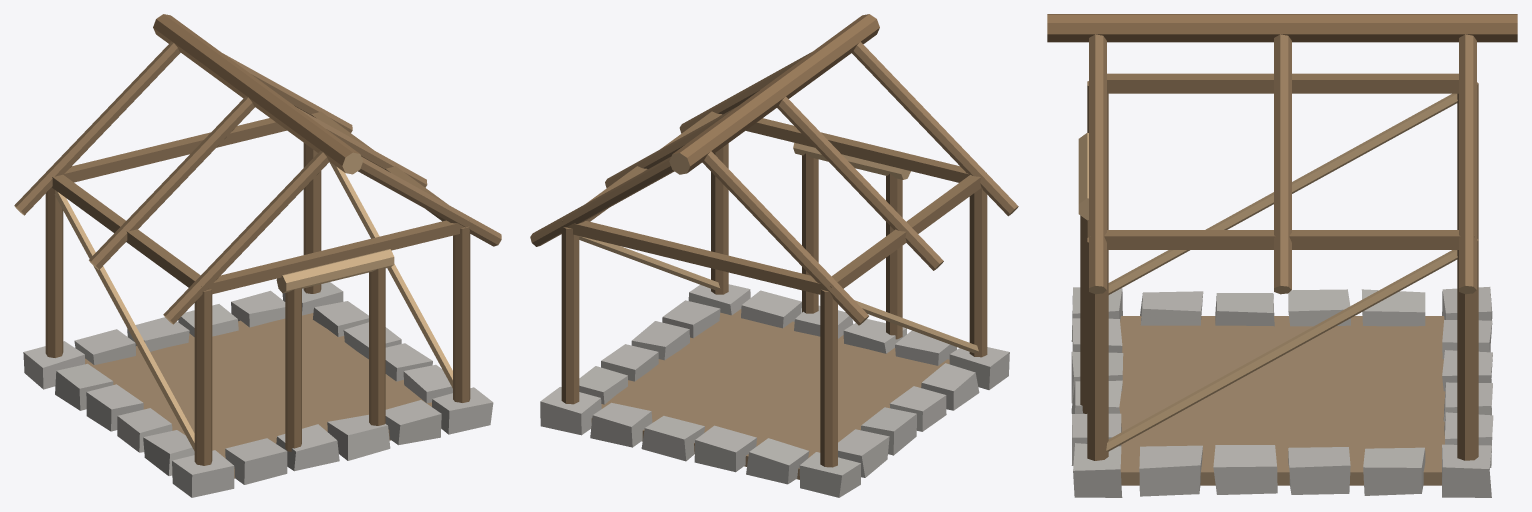
File: building_oven_house_frame.glb
3 views of the same model, side by side, from view 1: azimuth 30°, elevation 25°; view 2: azimuth 150°, elevation 25°; view 3: azimuth 270°, elevation 25° (orthographic). The views are drawn at different scales.
Visible parts, largest first — view 1: building_oven_house_frame; view 2: building_oven_house_frame; view 3: building_oven_house_frame.
Part boxes in pixels (box(x1,y1,x2,y2)): building_oven_house_frame: box(14, 14, 501, 497); building_oven_house_frame: box(530, 14, 1018, 497); building_oven_house_frame: box(1047, 14, 1517, 497).
Size of the model in its own units: 3.85 by 3.47 by 3.76.
